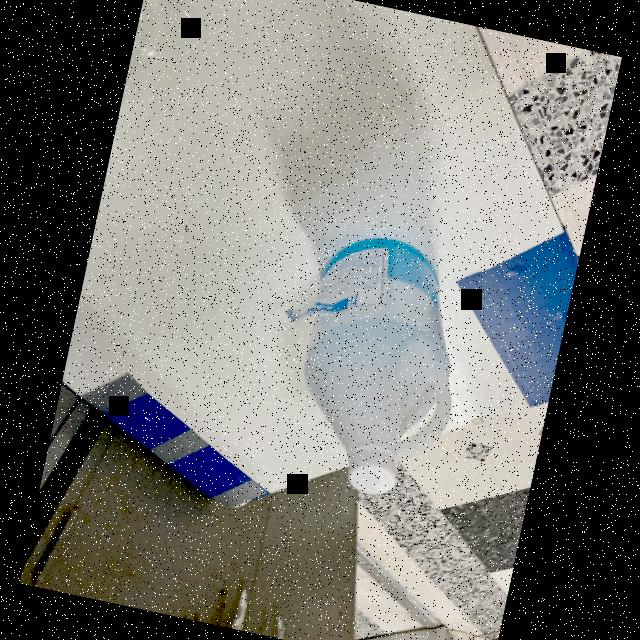chemical_plastic_gallon: (249, 212, 487, 524)
